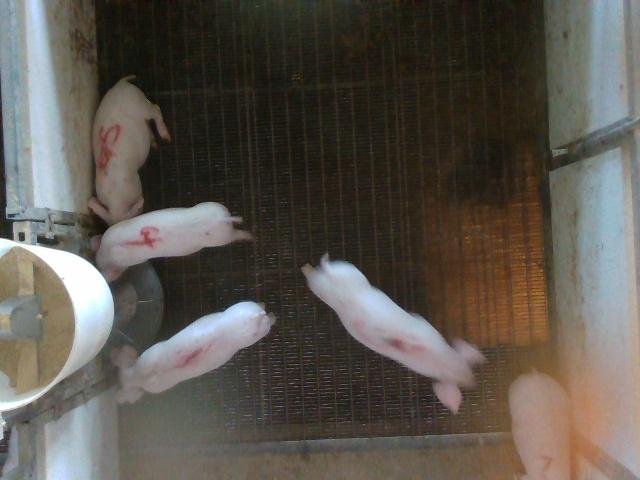pig-1: (110, 302, 275, 403)
pig-3: (302, 254, 485, 413)
pig-4: (96, 202, 252, 281)
pig-5: (89, 76, 170, 225)
